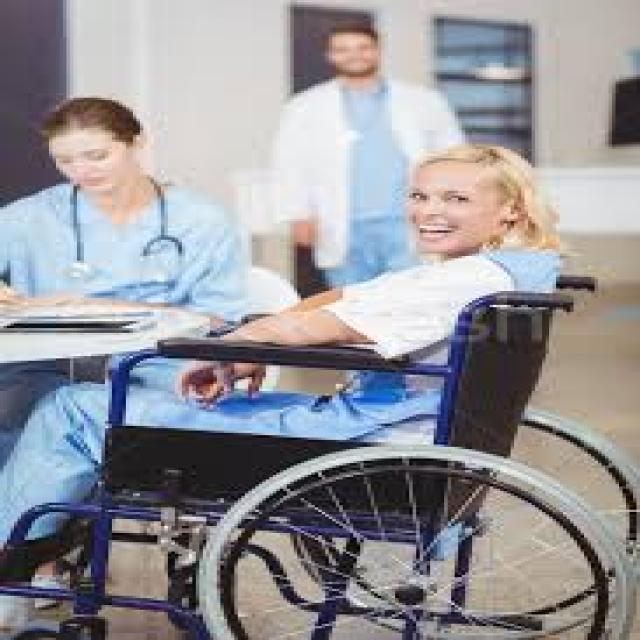wheelchairs: (11, 270, 636, 638)
